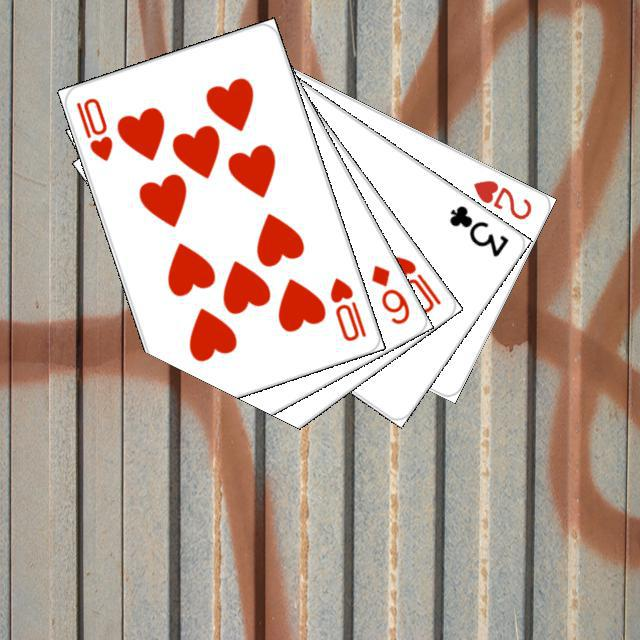10h: (388, 250, 443, 315), (70, 92, 115, 163), (325, 272, 368, 343)
2h: (468, 175, 534, 222)
3c: (444, 200, 511, 259)
6d: (366, 259, 412, 326)
